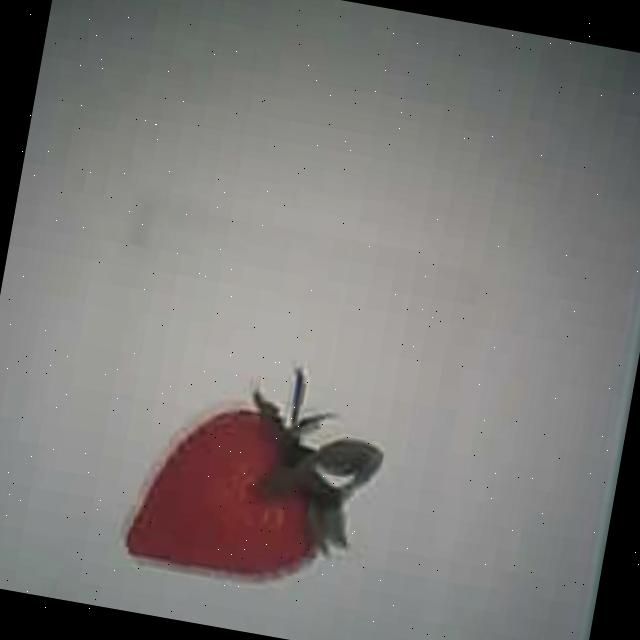strawberry: (124, 384, 340, 591)
